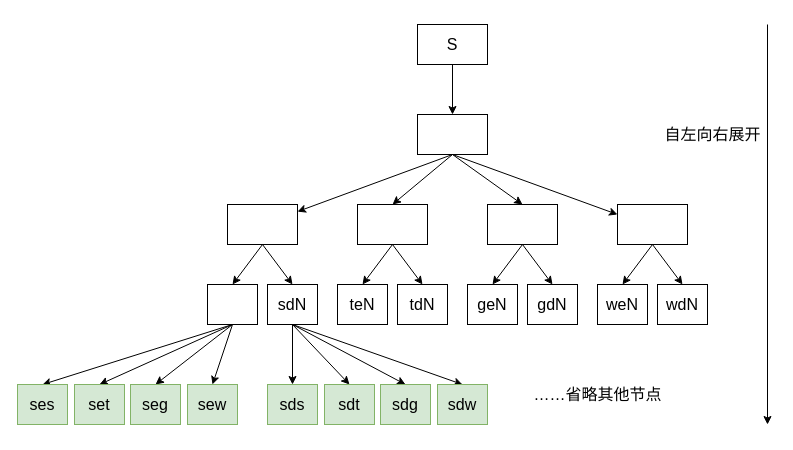
Some shapes in this 793 by 450 pixel diagram are drawn without their labels. Each missing label, with the centre of its shape:
gVN: the point at 522,224
NVN: the point at 452,134
seN: the point at 232,304
sVN: the point at 262,224
tVN: the point at 392,224
wVN: the point at 652,224
